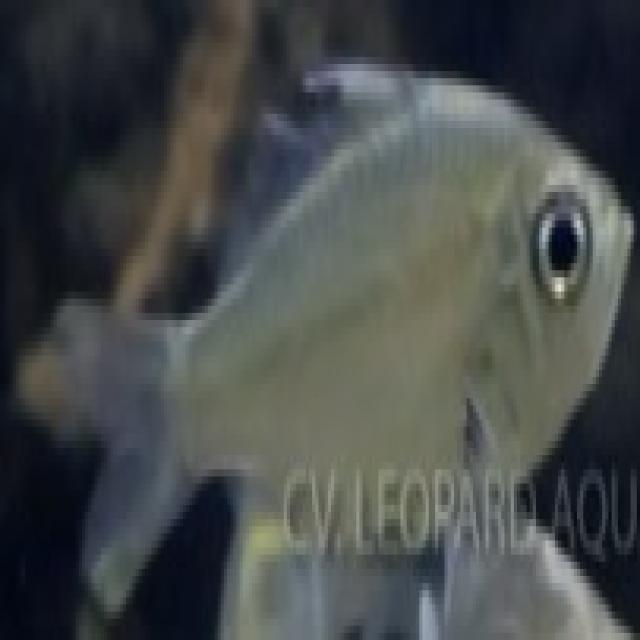Glass-Perchlet: (10, 26, 635, 604)
